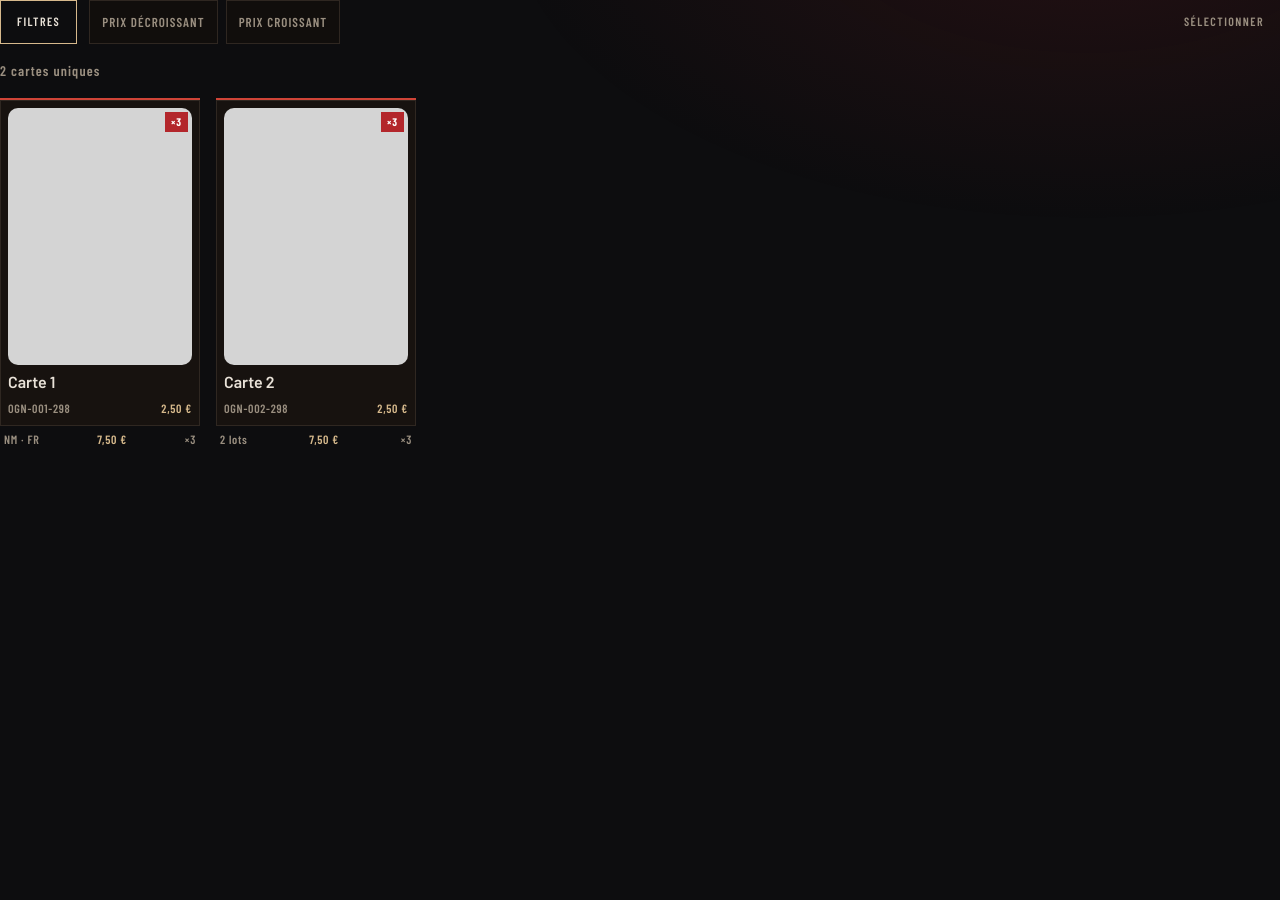
it: CollectionInventory › filtres : la feuille reprend les filtres de la cartothèque
Step 1. Click the button "Filtres" → (39, 22), box [0,0,77,44]
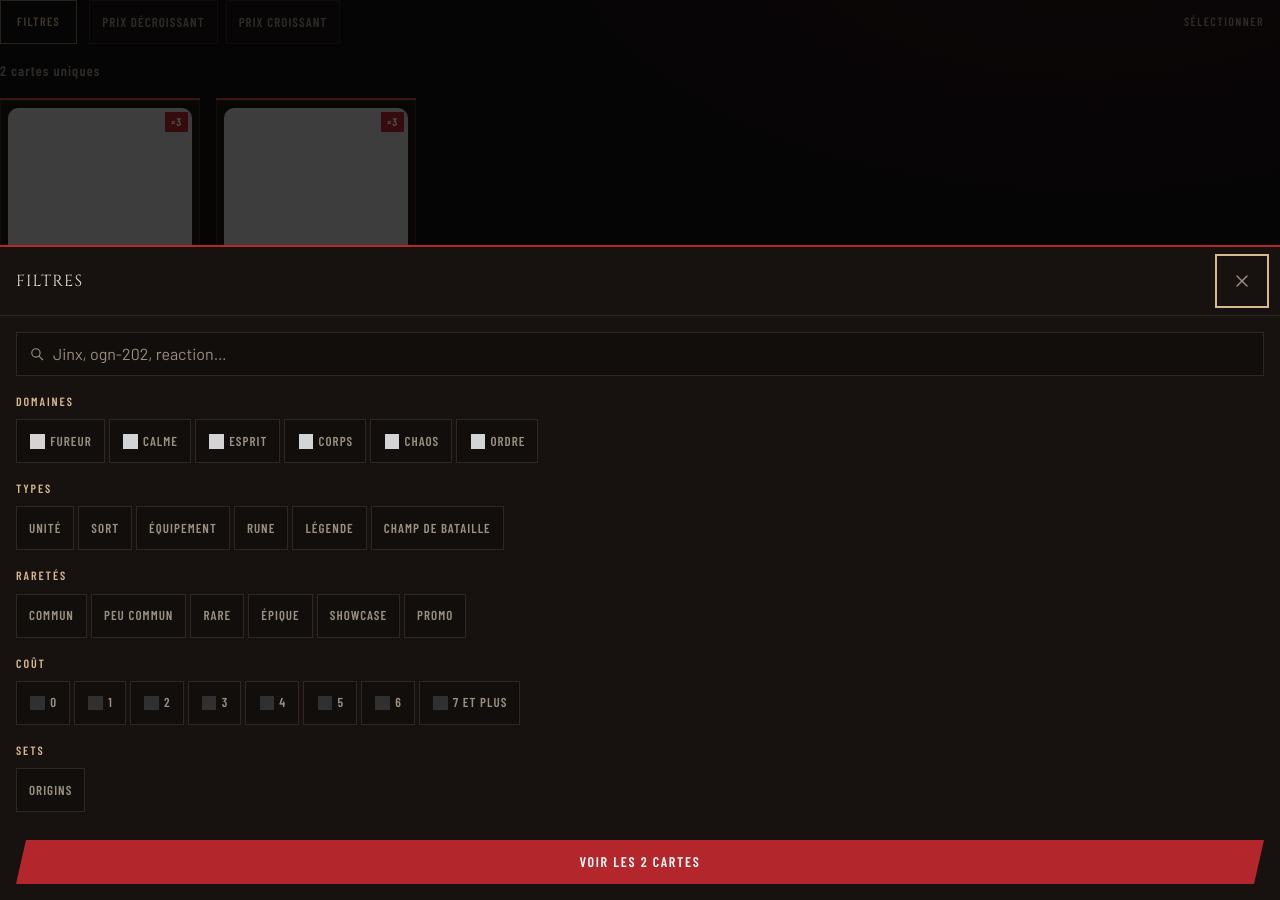
Expected: the dialog with class "rift-sheet" is shown
Expected: the dialog with class "rift-sheet" shows "Voir les 2 cartes", [16,840,1264,884]
